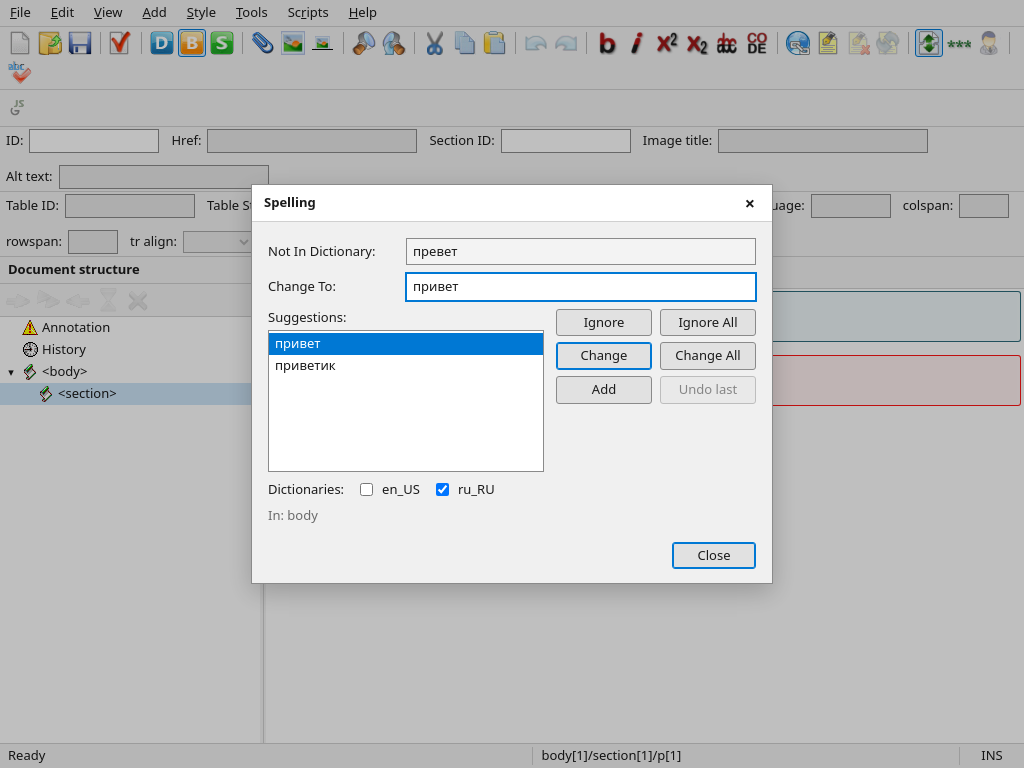
Spelling dialog › Undo last after Add removes the word from the custom dictionary and returns to it
Expected: the text box with test id "body-editor" is shown, [269, 291, 1021, 460]
Expected: the field with test id "spelling-not-in-dictionary" holds "превет", [406, 238, 756, 265]
Click the button with test id "spelling-add" at (604, 390), box [556, 376, 652, 404]
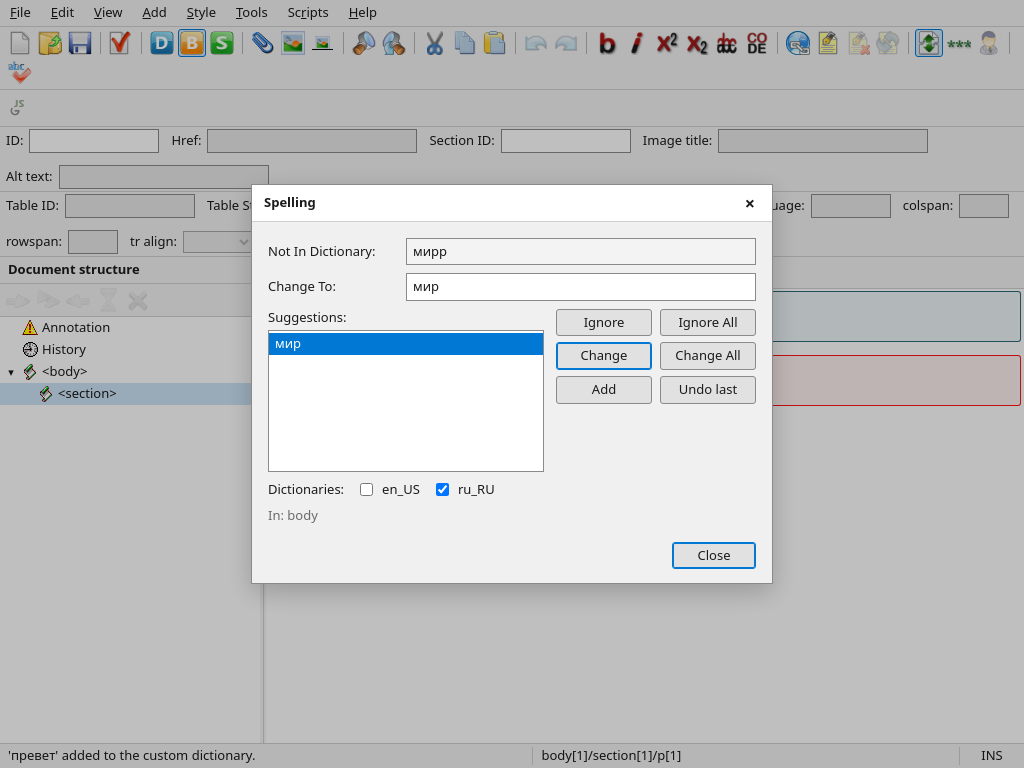
Result: the field with test id "spelling-not-in-dictionary" holds "мирр" at [406, 238, 756, 265]
Click the button with test id "spelling-undo" at (708, 390), box [660, 376, 756, 404]
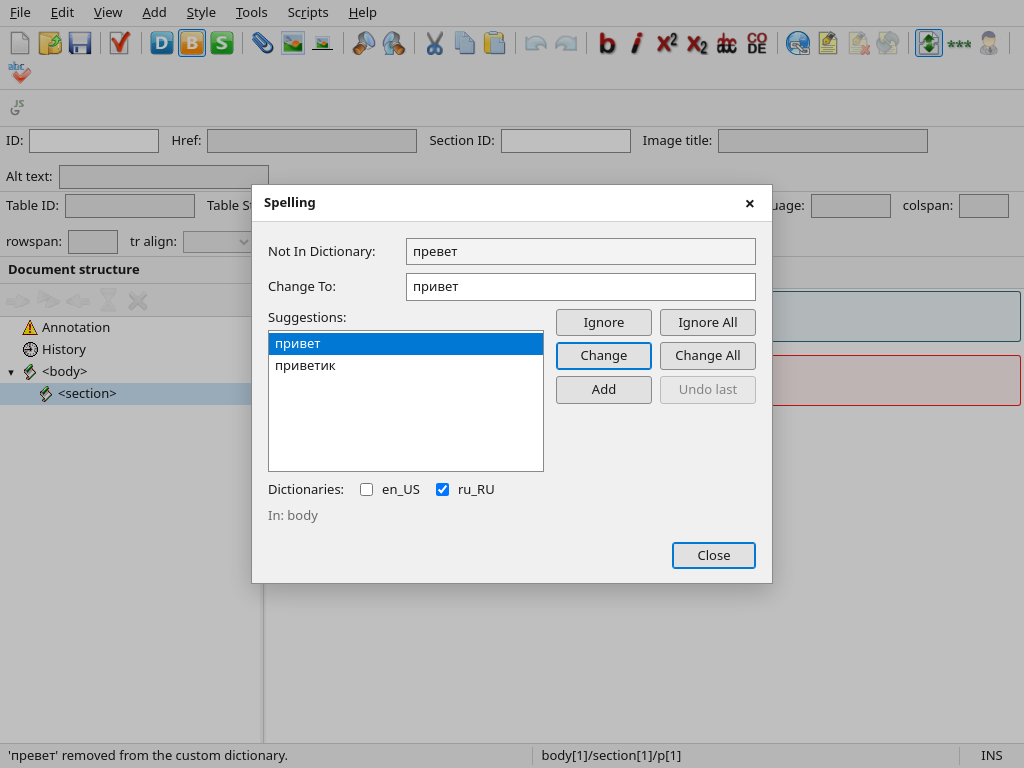
Result: the field with test id "spelling-not-in-dictionary" holds "превет" at [406, 238, 756, 265]
Click the button with test id "dialog-spelling-button-close" at (714, 555), box [672, 542, 756, 569]
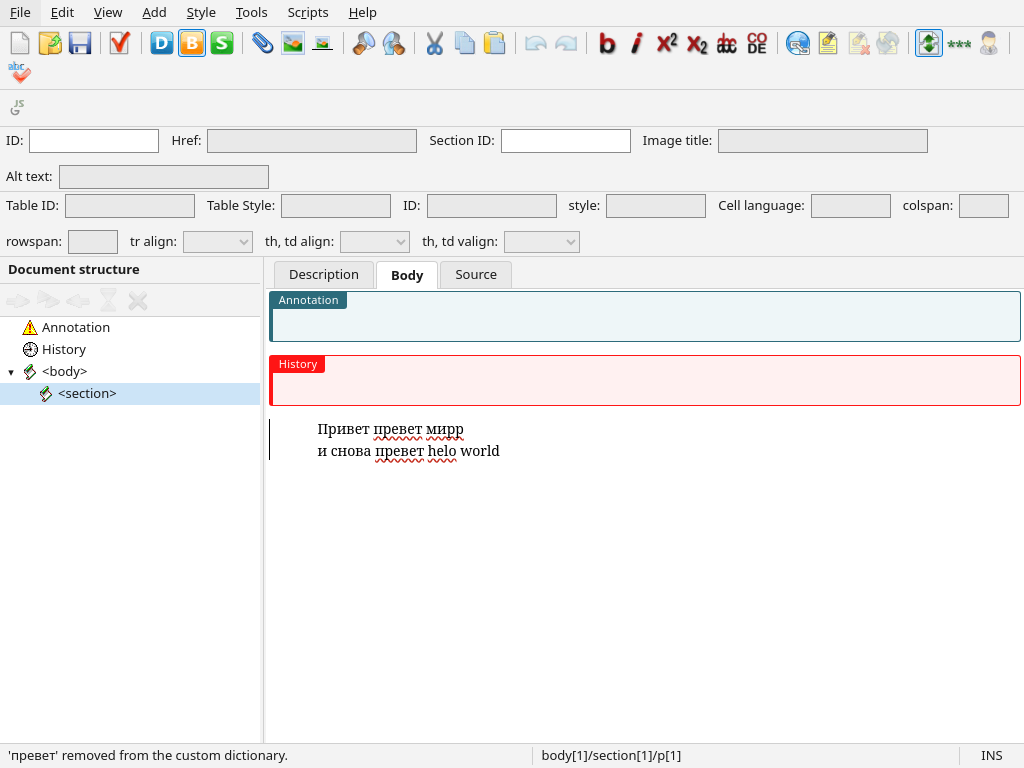
Result: the dialog with test id "dialog-spelling" is gone
